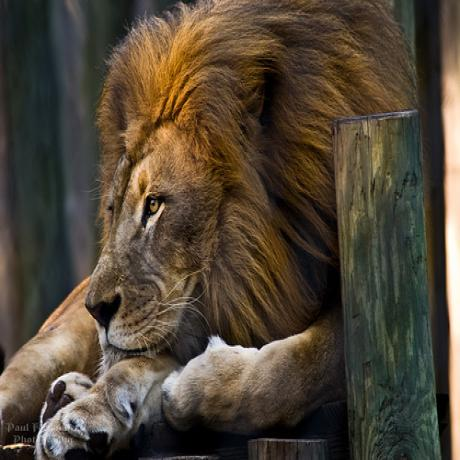Lion: (0, 0, 341, 450)
